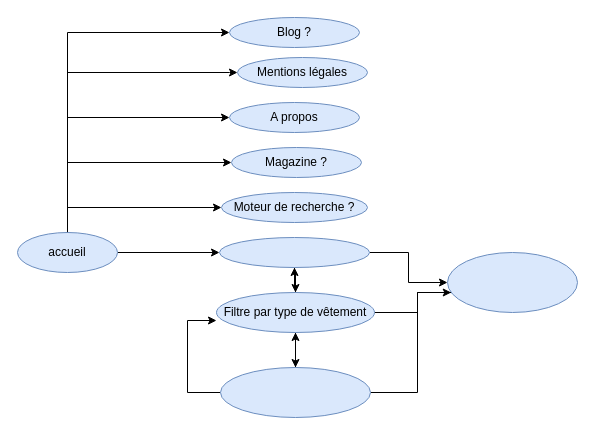
Image size: 595x435. Some labels were removed from this diagram. The box of each missing label's shape, as (x1, y1, x2, y2) in pixels:
Lien vers un site partenaire: (446, 252, 578, 312)
Page par couleur: (218, 236, 370, 268)
Réponse à une question choisie: (220, 366, 370, 418)
